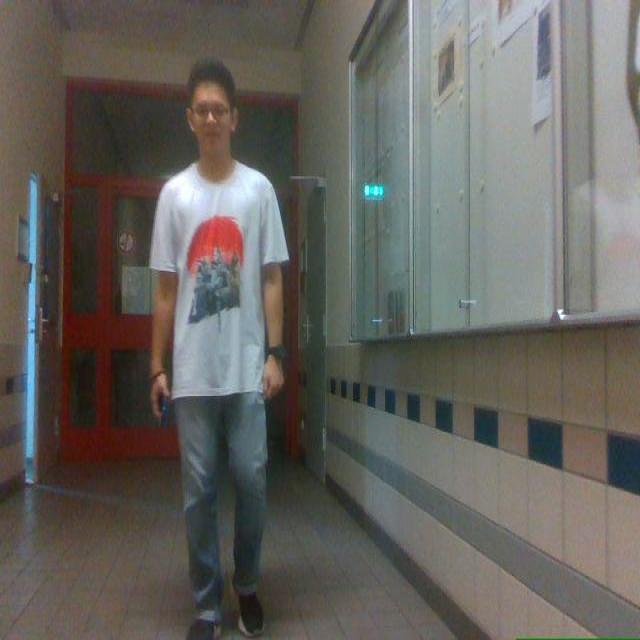humans: (150, 59, 287, 639)
